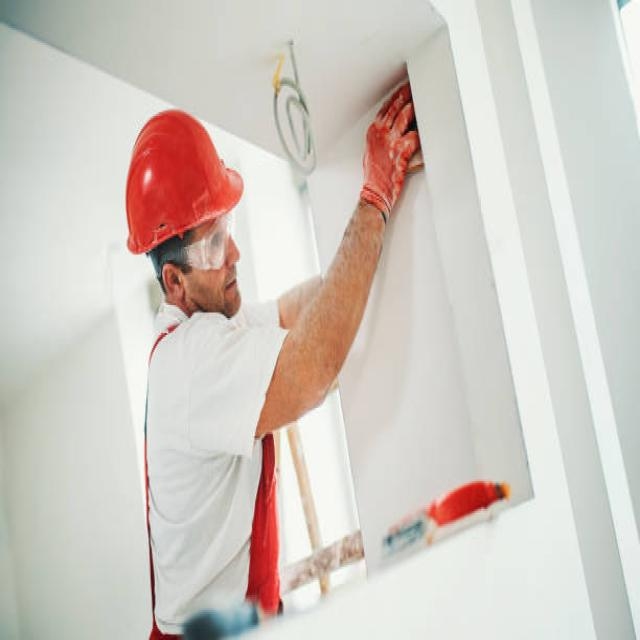gloves: (361, 79, 421, 230)
